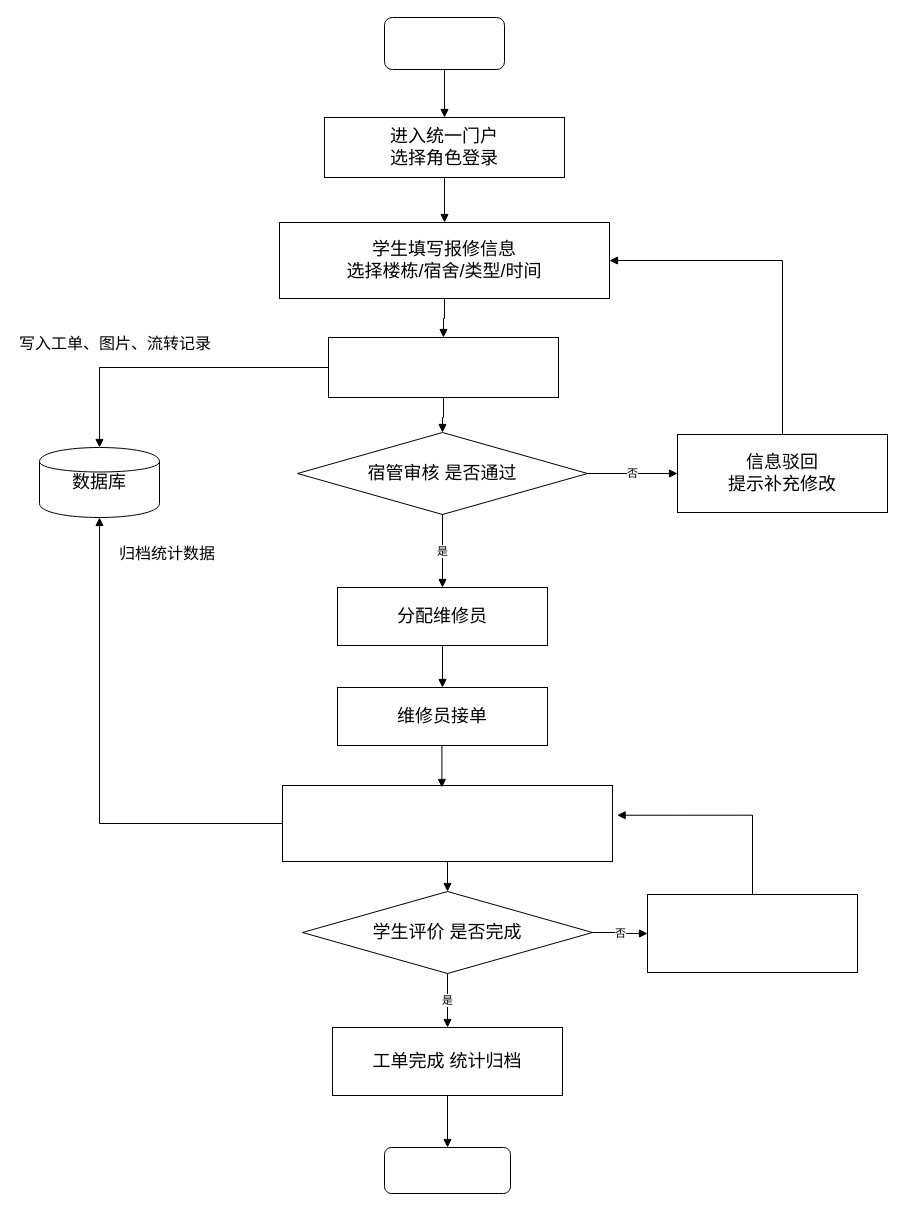
This 905x1211 diagram has some shape labels left out. The shapes that lost their labels are listed below. From the top down, each one's centre as x and y in pixels, then its label:
the point at 444,43: 开始
the point at 443,367: 提交工单 上传故障图片
the point at 447,823: 维修反馈 耗材上报并扣减库存
the point at 752,933: 保持待评价 提醒学生评价
the point at 447,1170: 流程结束
